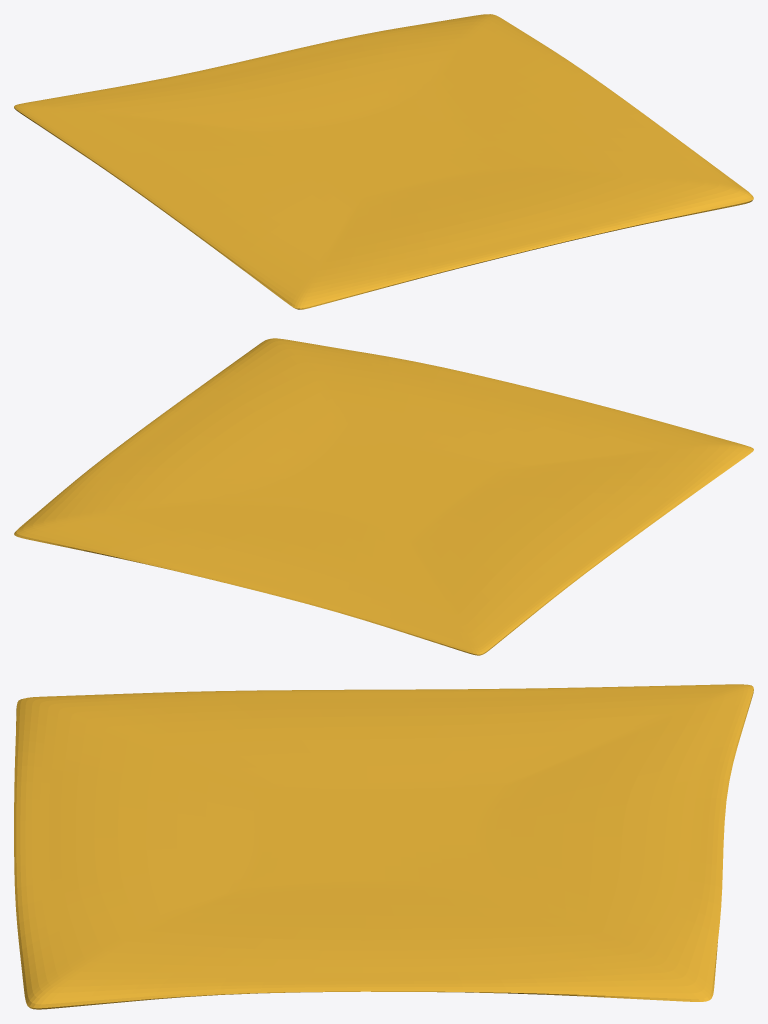
Rendered from cheese.gltf.
The picture shows the model from 3 angles, top to bottom: view 1: azimuth 30°, elevation 25°; view 2: azimuth 150°, elevation 25°; view 3: azimuth 270°, elevation 25°; orthographic projection. The views are drawn at different scales.
Parts seen in each view (by area): view 1: Cube; view 2: Cube; view 3: Cube.
Part boxes in pixels (x1=…): Cube: x1=14, y1=14, x2=753, y2=309; Cube: x1=14, y1=338, x2=753, y2=655; Cube: x1=14, y1=684, x2=753, y2=1009.
Bounding box in the file's own units: 2.02 × 0.0686 × 2.03.
